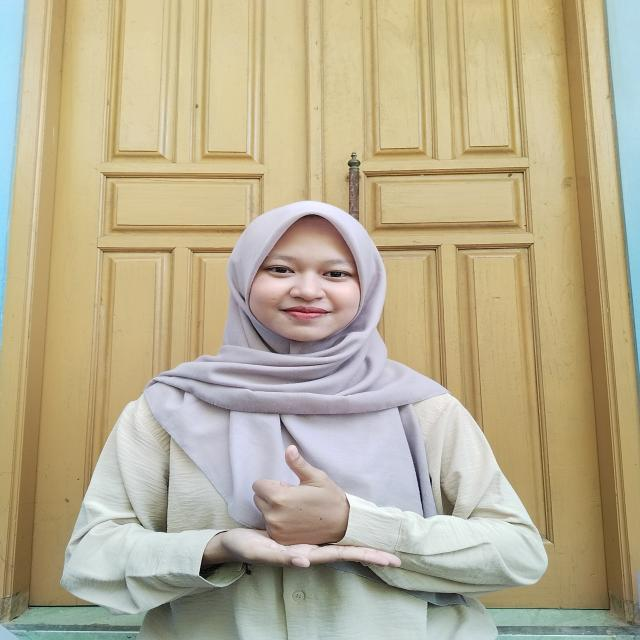cantik: (196, 446, 410, 581)
